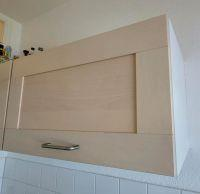cabinet_door: (0, 41, 169, 159)
handle: (40, 142, 82, 155)
